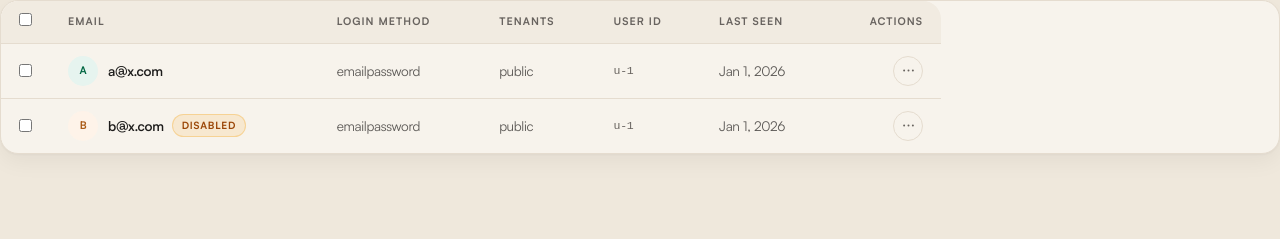
UsersTable › deselects a row when its checkbox is clicked again
Click the checkbox named "select a@x.com": (26, 70) [19,64,32,77]
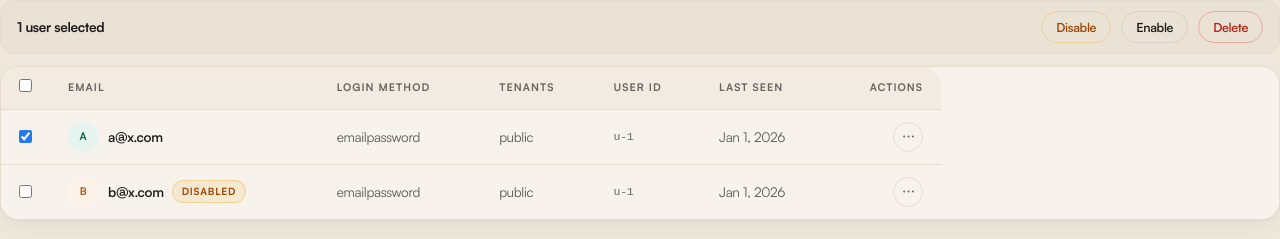
Now the text "1 user selected" is shown, box [17,17,104,37]
Click the checkbox named "select a@x.com": (26, 136) [19,130,32,143]
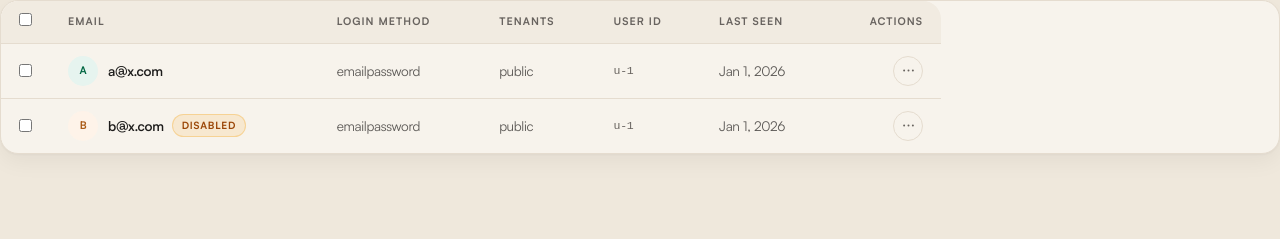
Now the text "selected" is gone
